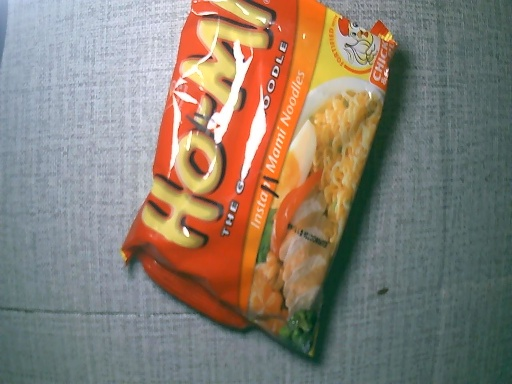plastic: (116, 1, 390, 367)
